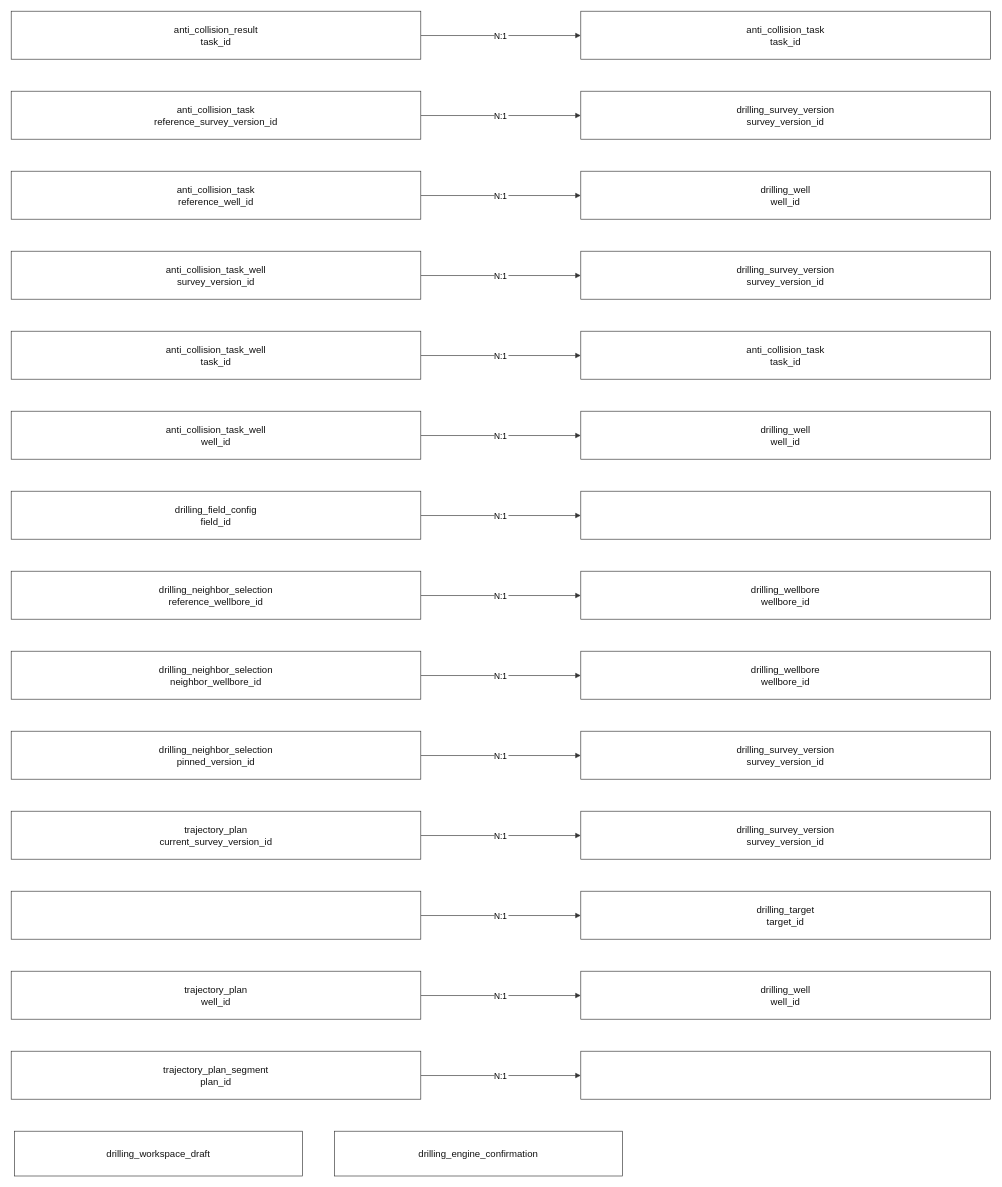
Some shapes in this 1002 by 1187 pixel diagram are drawn without their labels. Here are the shapes that lost their labels. From the top down, the box of each, then its label:
(580, 491, 990, 539): drilling_field field_id
(11, 891, 421, 939): trajectory_plan target_id
(580, 1051, 990, 1099): trajectory_plan plan_id
